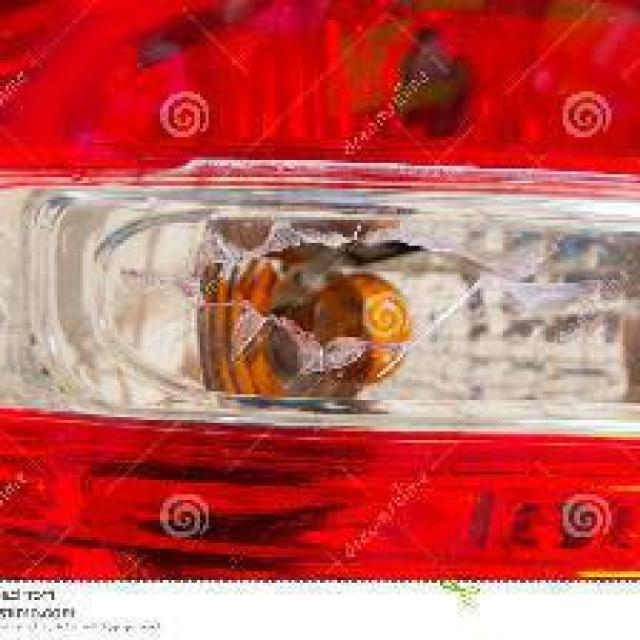damaged: (183, 220, 512, 392)
